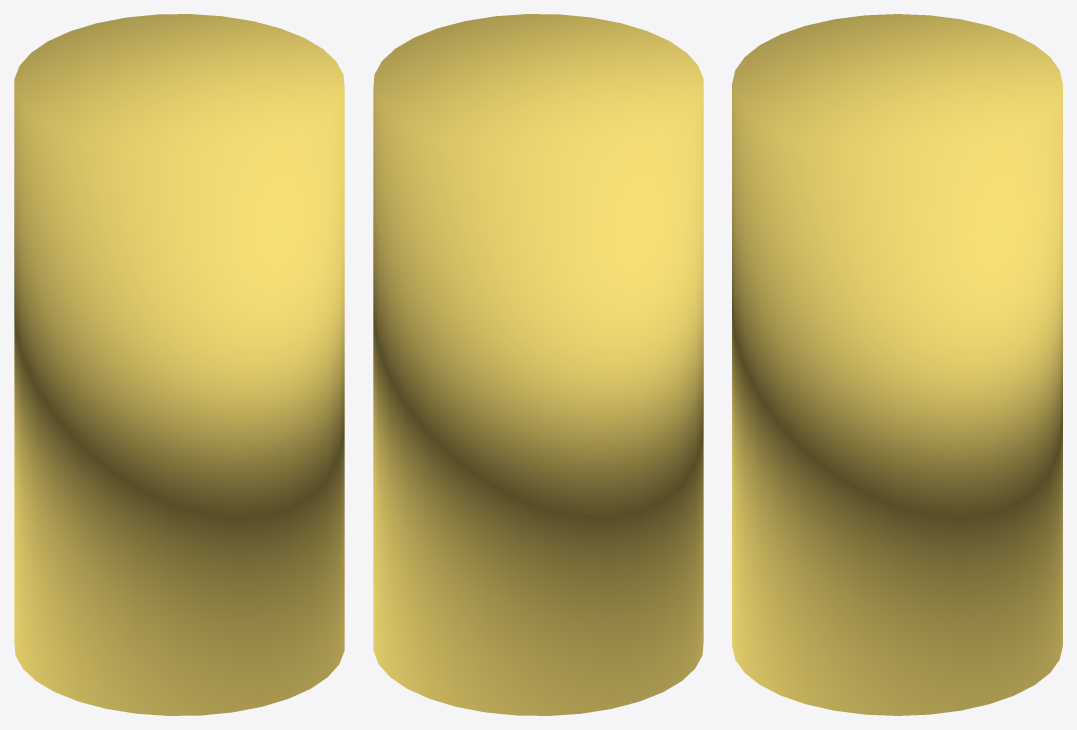
The model's file is SUV_O2_Lambda_Sensor_Upstream.glb.
The picture shows the model from 3 angles, left to right: view 1: azimuth 30°, elevation 25°; view 2: azimuth 150°, elevation 25°; view 3: azimuth 270°, elevation 25°; orthographic projection.
Parts seen in each view (by area): view 1: SUV_O2_Lambda_Sensor_Upstream; view 2: SUV_O2_Lambda_Sensor_Upstream; view 3: SUV_O2_Lambda_Sensor_Upstream.
Part boxes in pixels (x1=…): SUV_O2_Lambda_Sensor_Upstream: x1=14, y1=14, x2=344, y2=715; SUV_O2_Lambda_Sensor_Upstream: x1=373, y1=14, x2=703, y2=715; SUV_O2_Lambda_Sensor_Upstream: x1=732, y1=14, x2=1062, y2=715.
Bounding box in the file's own units: 0.024 × 0.045 × 0.024.
